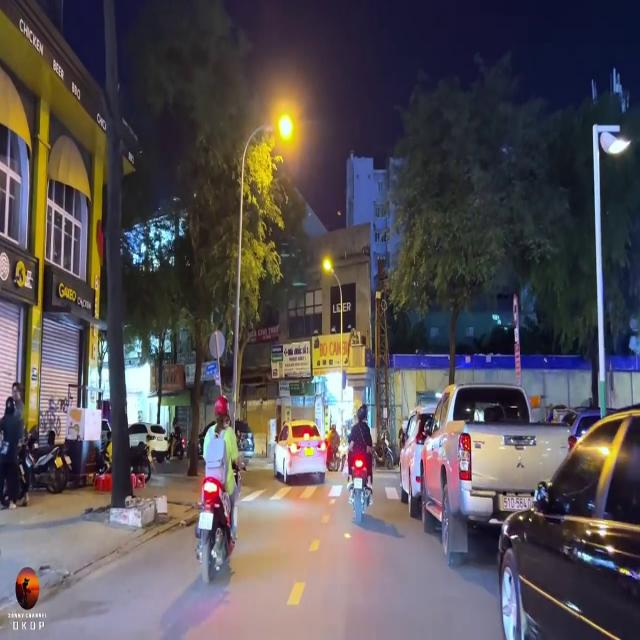bien_trang: (497, 491, 538, 514)
